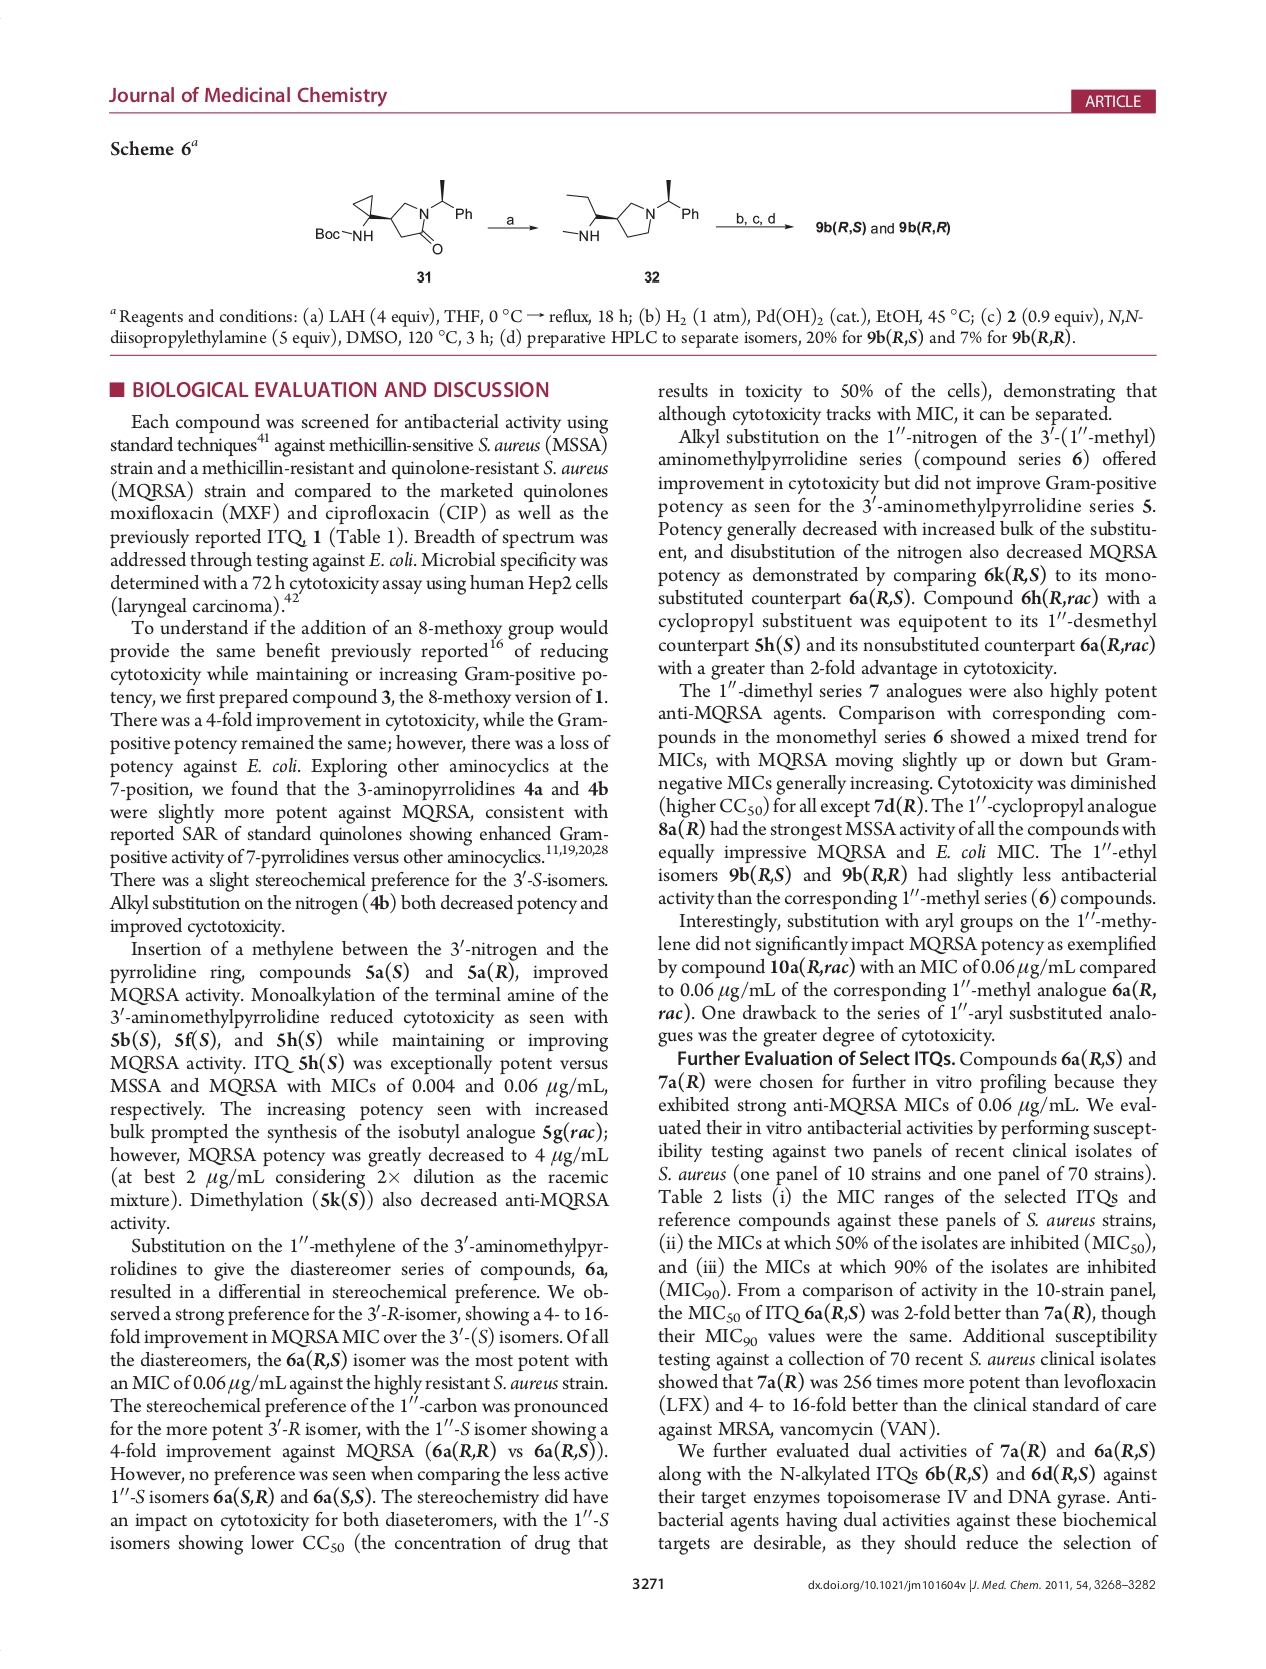exist_molecular: (313, 177, 476, 261), (559, 172, 701, 251)
